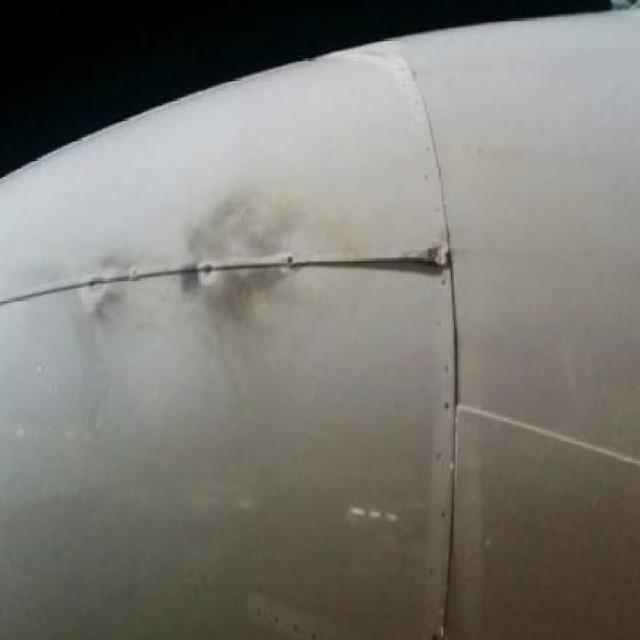crack: (304, 257, 455, 278)
